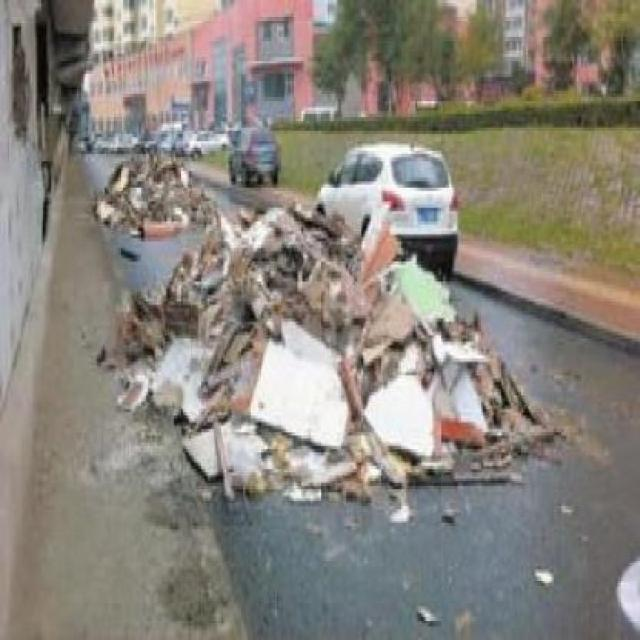garbage: (236, 225, 547, 492), (81, 114, 224, 378)
